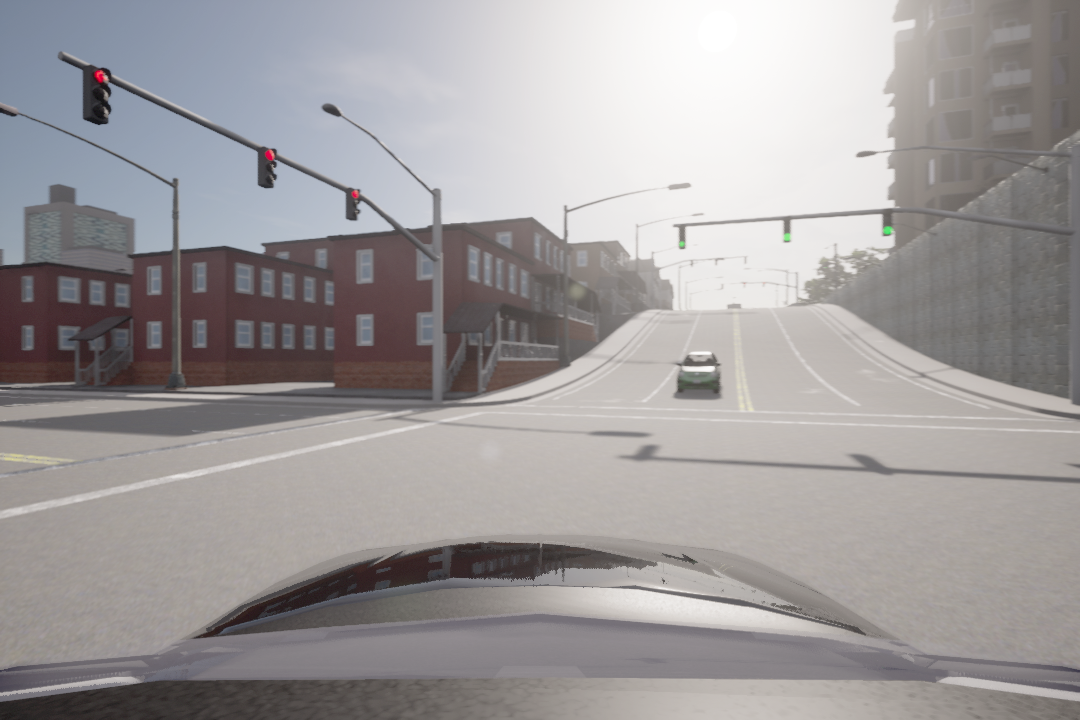TrafficLight: (81, 57, 116, 129), (257, 143, 278, 191), (344, 185, 361, 224), (881, 203, 894, 239), (780, 217, 793, 246), (676, 223, 688, 248)
